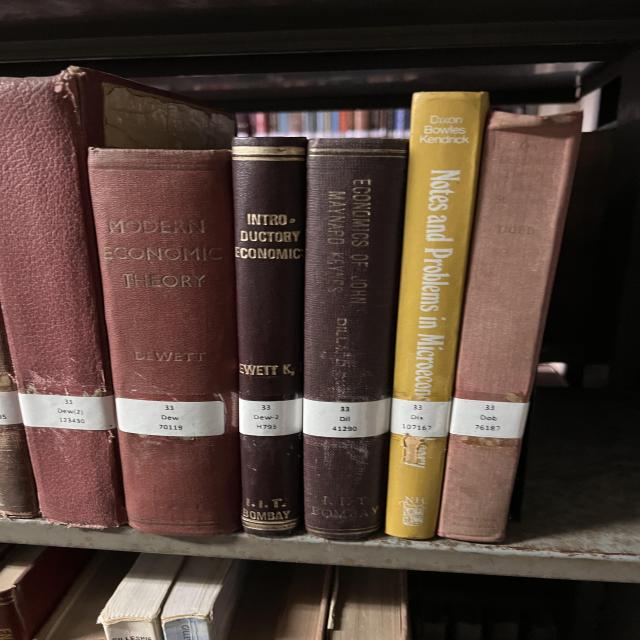Book: (0, 68, 233, 529), (438, 111, 582, 542), (88, 148, 240, 535), (385, 92, 488, 539), (303, 139, 408, 540), (232, 138, 307, 535)
Label: (115, 398, 225, 436), (18, 394, 117, 430), (303, 398, 392, 438), (450, 398, 528, 439), (390, 398, 452, 438), (238, 398, 303, 436)
